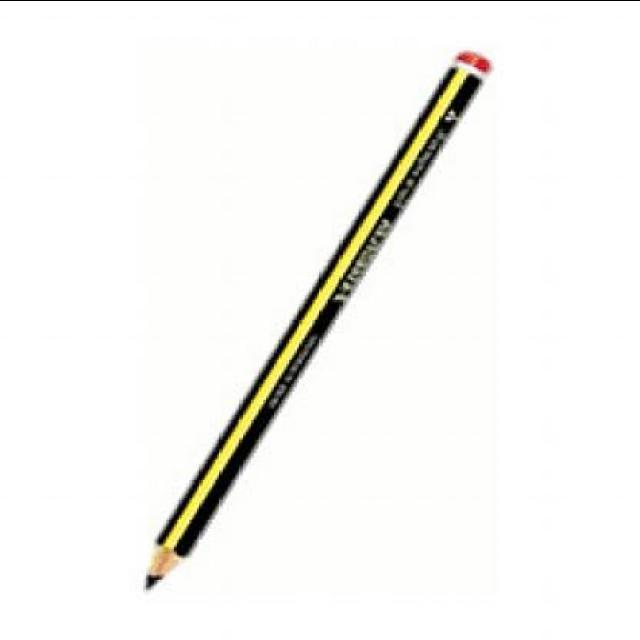Pencil: (127, 514, 215, 606)
